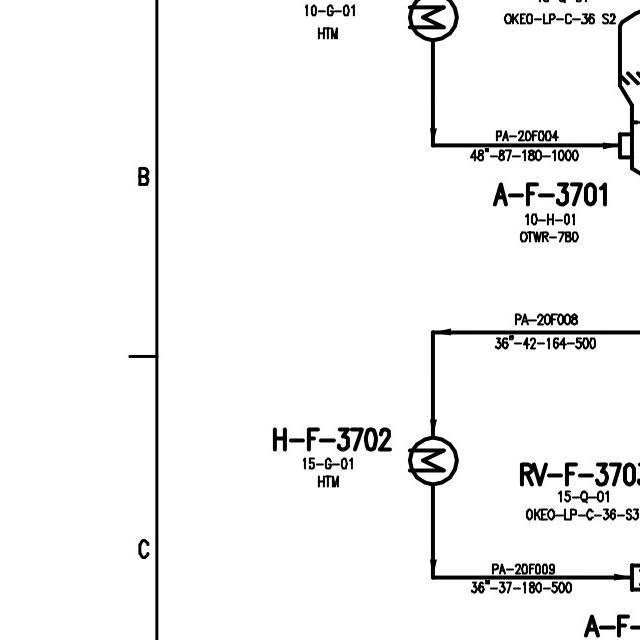HE: (406, 432, 458, 485), (401, 0, 459, 42)
